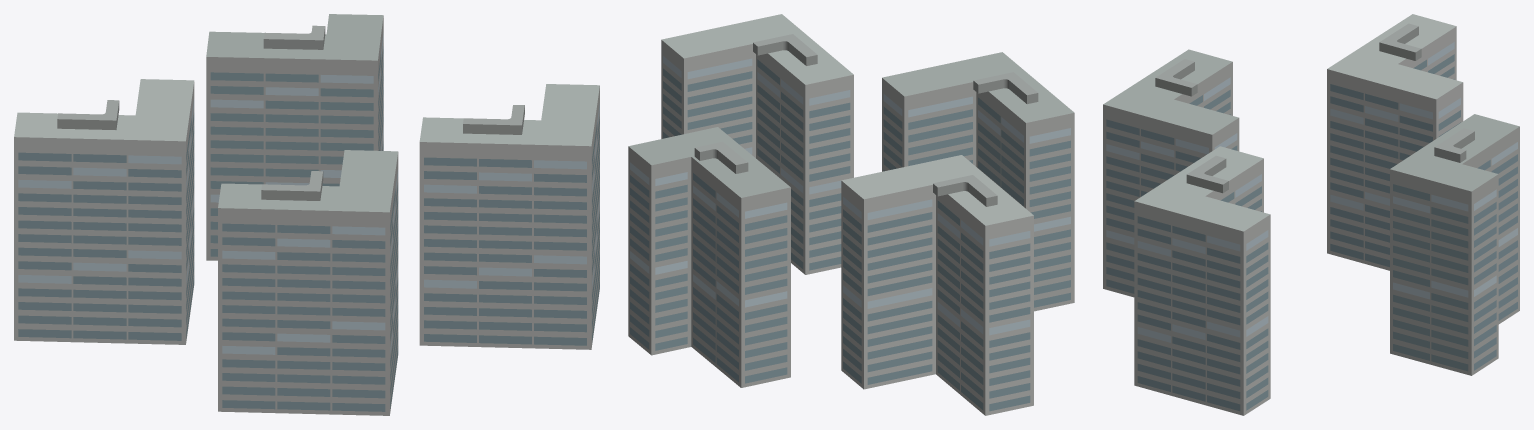
The model's file is apt-a10025649.glb.
3 renders of one model, left to right at view 1: azimuth 30°, elevation 25°; view 2: azimuth 150°, elevation 25°; view 3: azimuth 270°, elevation 25°, orthographic. The views are drawn at different scales.
Parts seen in each view (by area): view 1: apt-a10025649; view 2: apt-a10025649; view 3: apt-a10025649.
Boxes of the visible parts, <box> form: apt-a10025649: <box>14,14,599,415</box>; apt-a10025649: <box>628,14,1074,415</box>; apt-a10025649: <box>1103,14,1519,415</box>.
Bounding box in the file's own units: 106 × 44 × 86.11.
